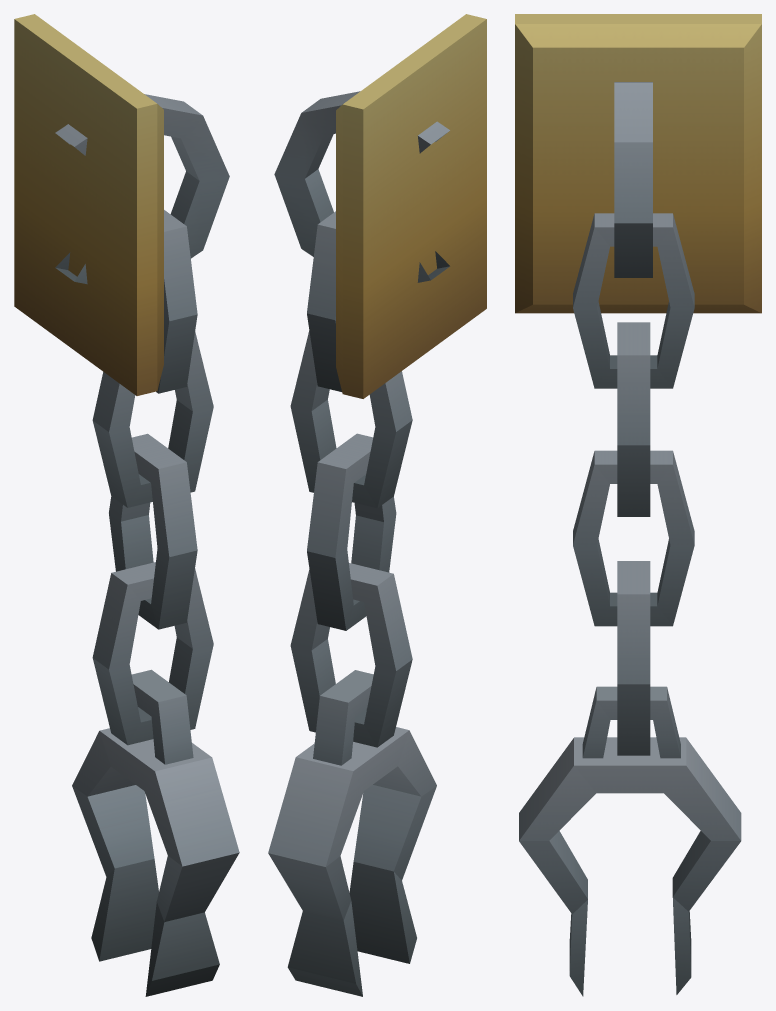
File: Cadena.fbx
The picture shows the model from 3 angles, left to right: view 1: azimuth 30°, elevation 25°; view 2: azimuth 150°, elevation 25°; view 3: azimuth 270°, elevation 25°; orthographic projection.
Visible parts, largest first — view 1: A-1.002; view 2: A-1.002; view 3: A-1.002.
Boxes of the visible parts, x1,y1,x2,y2 form: A-1.002: (14, 14, 239, 996); A-1.002: (268, 14, 486, 996); A-1.002: (515, 14, 761, 996).
Size of the model in its own units: 96.92 by 550 by 132.
